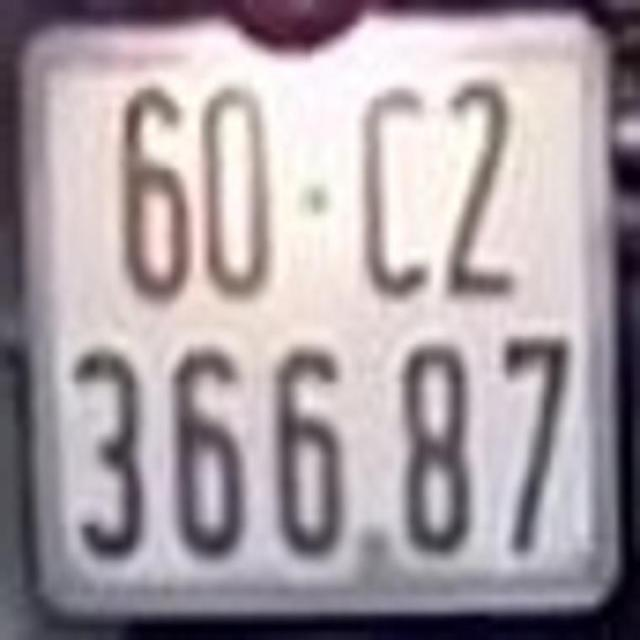0: (203, 85, 269, 298)
2: (444, 75, 522, 295)
3: (72, 356, 149, 564)
6: (113, 84, 199, 300), (270, 345, 344, 562), (167, 347, 241, 556)
7: (496, 328, 569, 563)
8: (397, 347, 475, 551)
C: (356, 81, 435, 297)
